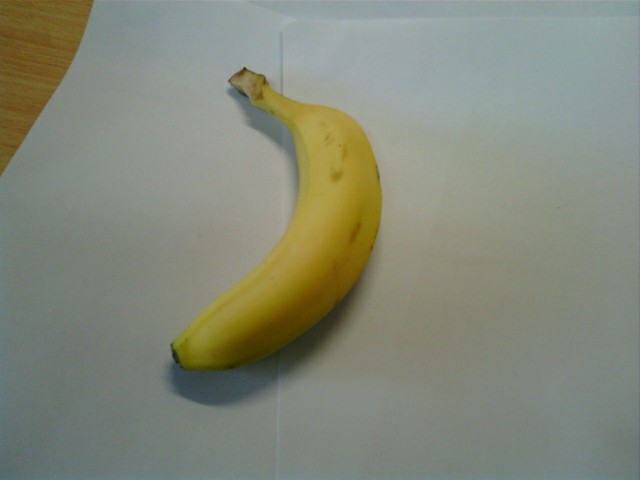fresh_banana: (167, 96, 385, 376)
